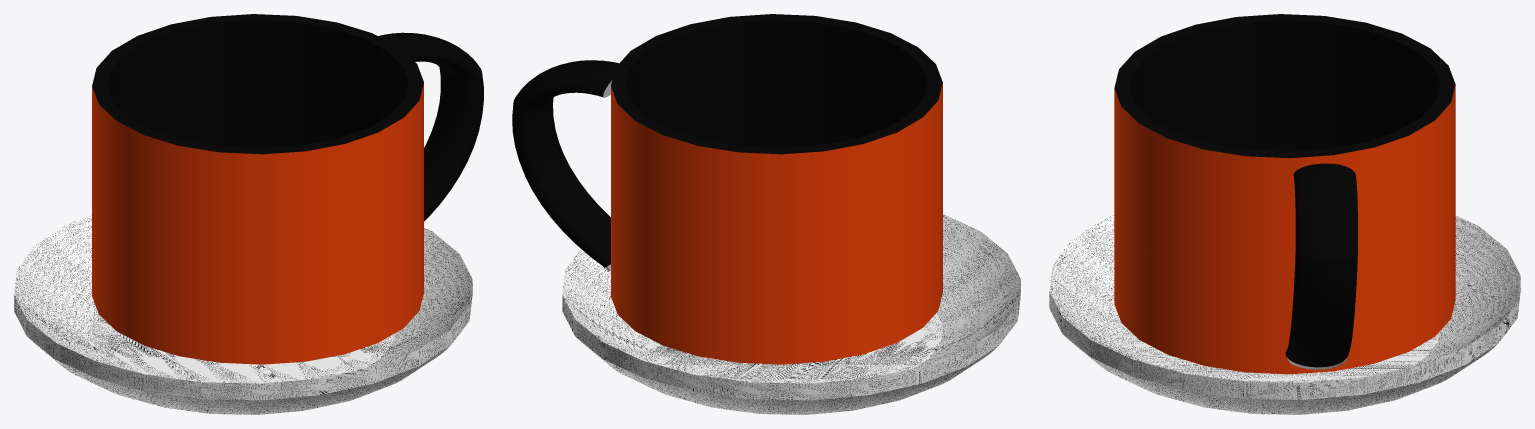
Rendered from mug_15_origin_gt_7.dae.
3 renders of one model, left to right at view 1: azimuth 30°, elevation 25°; view 2: azimuth 150°, elevation 25°; view 3: azimuth 270°, elevation 25°, orthographic. The views are drawn at different scales.
Parts seen in each view (by area): view 1: SketchUp (×5); view 2: SketchUp (×5); view 3: SketchUp (×5).
Boxes of the visible parts, bbox=[...] form: SketchUp (×5): bbox=[14, 14, 483, 414]; SketchUp (×5): bbox=[512, 14, 1020, 414]; SketchUp (×5): bbox=[1049, 14, 1520, 414].
Bounding box in the file's own units: 4.73 × 4.16 × 2.54.
